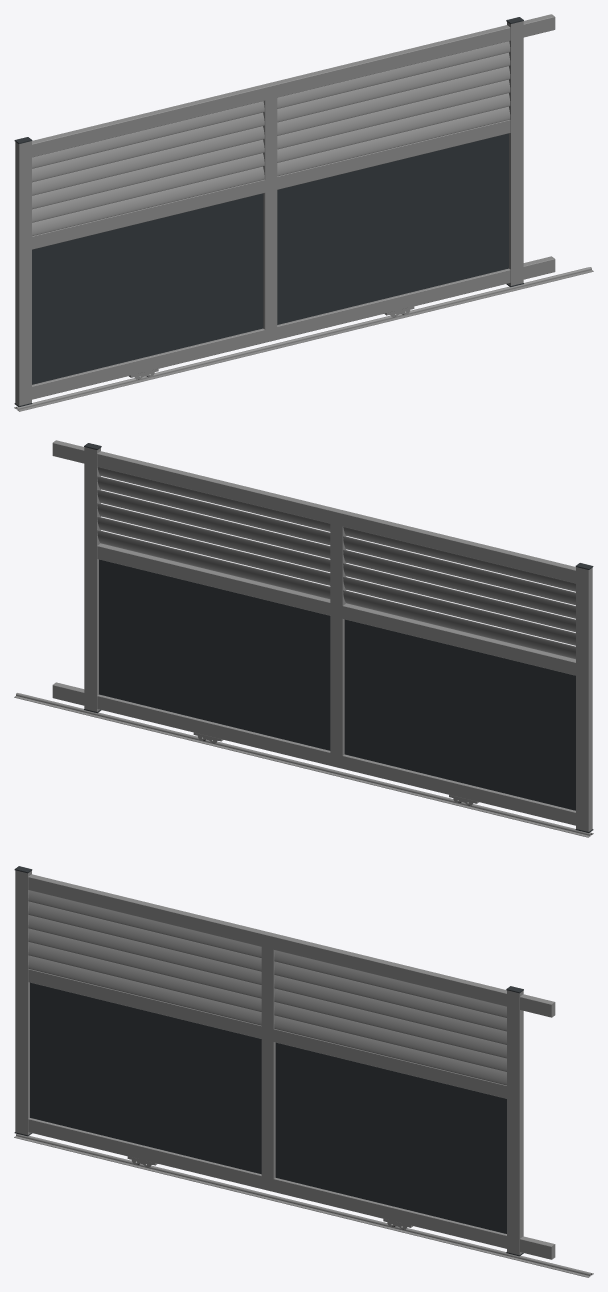
The picture shows the model from 3 angles, top to bottom: view 1: azimuth 30°, elevation 25°; view 2: azimuth 150°, elevation 25°; view 3: azimuth 330°, elevation 25°; orthographic projection.
Parts seen in each view (by area): view 1: Chapa Alucobond010, Shape107412375, Shape107412374, Shape009, Circle135, Circle134, Circle136, Circle137, Circle133, Circle138, Pilar, Pilar001 (+2 smaller); view 2: Chapa Alucobond010, Shape107412375, Shape009, Shape107412374, Circle135, Circle136, Circle137, Circle133, Circle134, Pilar, Circle138, Pilar001 (+2 smaller); view 3: Chapa Alucobond010, Shape107412375, Shape107412374, Shape009, Circle136, Circle134, Circle135, Circle137, Circle133, Circle138, Pilar001, Pilar (+2 smaller).
Part boxes in pixels (x1,y1,x2,y2): Chapa Alucobond010: (32,133,508,384); Shape107412375: (32,14,555,157); Shape107412374: (32,256,555,399); Shape009: (32,120,510,249); Circle135: (32,79,510,209); Circle134: (32,93,510,222); Circle136: (32,66,510,195); Circle137: (32,52,510,182); Circle133: (32,106,510,236); Circle138: (32,41,510,168); Pilar: (15,141,31,405); Pilar001: (507,21,523,285); Chapa Alucobond010: (99,559,575,810); Shape107412375: (52,440,575,583); Shape009: (97,543,575,675); Shape107412374: (52,682,575,825); Circle135: (97,503,575,632); Circle136: (97,489,575,618); Circle137: (97,476,575,605); Circle133: (97,530,575,659); Circle134: (97,516,575,645); Pilar: (576,567,592,831); Circle138: (97,467,575,591); Pilar001: (84,447,100,711); Chapa Alucobond010: (30,982,506,1233); Shape107412375: (28,874,555,1017); Shape107412374: (28,1118,555,1259); Shape009: (28,969,506,1098); Circle136: (28,915,506,1044); Circle134: (28,942,506,1071); Circle135: (28,929,506,1058); Circle137: (28,902,506,1031); Circle133: (28,956,506,1085); Circle138: (28,890,506,1017); Pilar001: (507,990,523,1255); Pilar: (15,870,31,1135).
Size of the model in its own units: 3600 by 1606 by 60.02.
8 materials, 4 textured.
